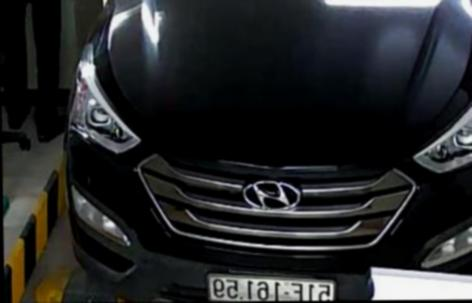License_Plate: (203, 276, 339, 301)
